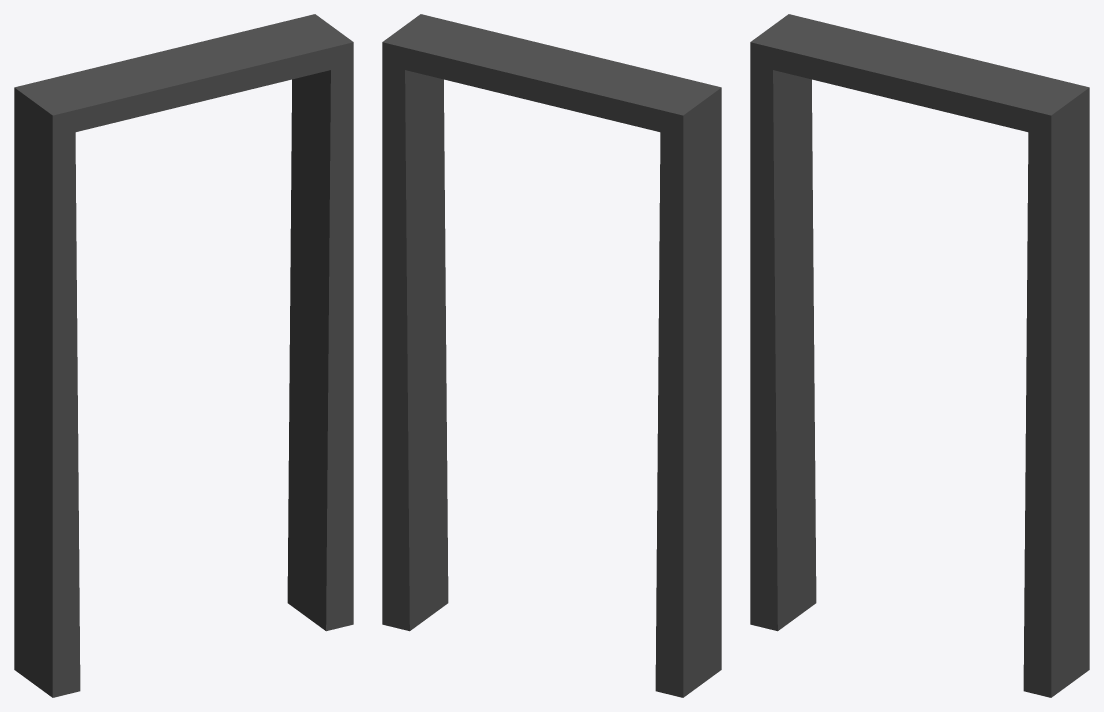
The model's file is Door_Frame.obj.
3 renders of one model, left to right at view 1: azimuth 30°, elevation 25°; view 2: azimuth 150°, elevation 25°; view 3: azimuth 330°, elevation 25°, orthographic.
Visible parts, largest first — view 1: Door_Frame; view 2: Door_Frame; view 3: Door_Frame.
Part boxes in pixels (x1,y1,x2,y2): Door_Frame: (14,14,353,697); Door_Frame: (382,14,721,697); Door_Frame: (750,14,1089,697).
Bounding box in the file's own units: 1.14 × 2.1 × 0.2518.
